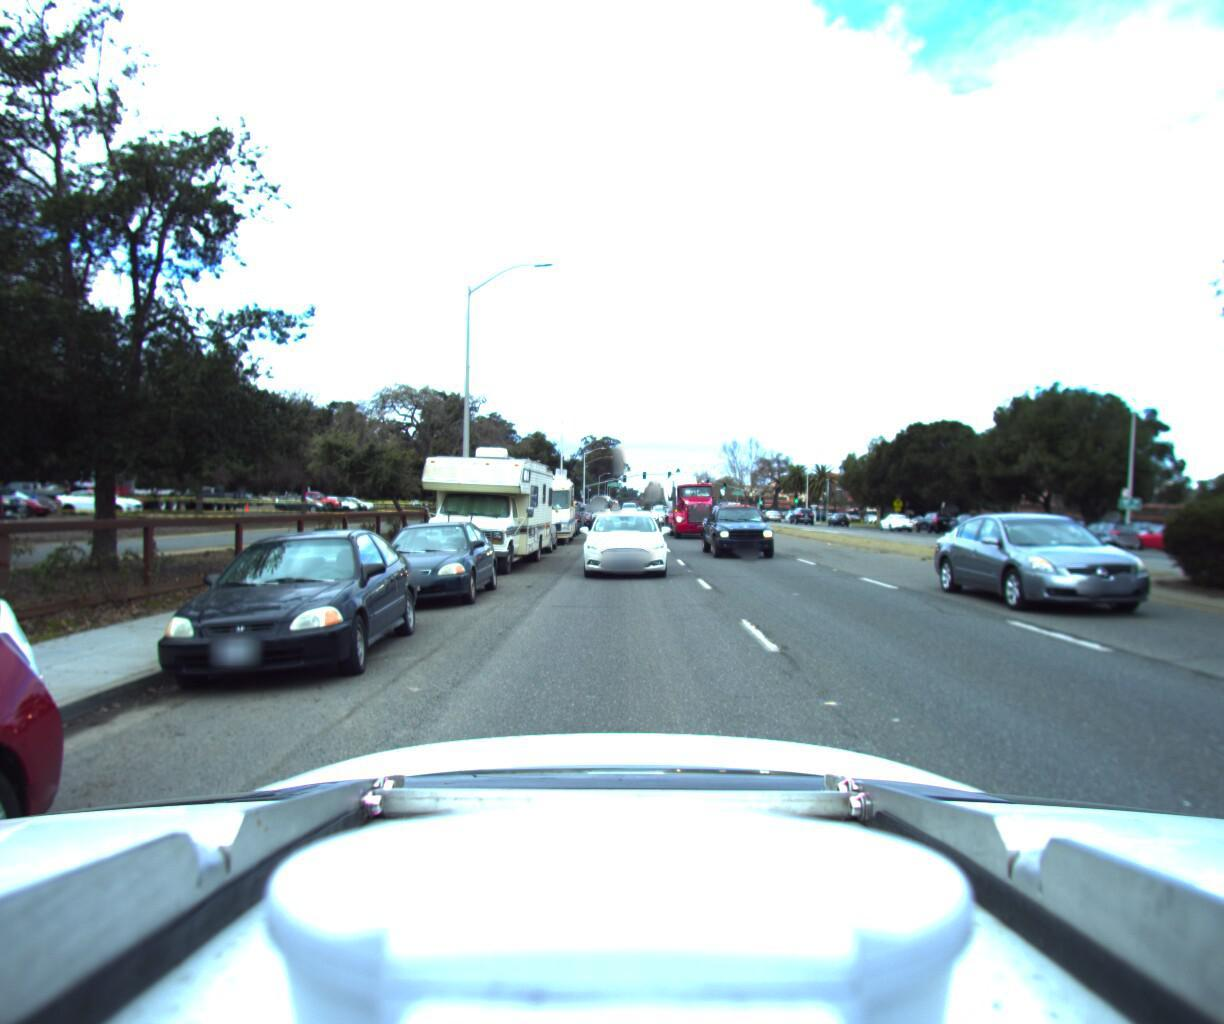car: (119, 517, 415, 710), (954, 505, 1224, 633), (348, 511, 497, 615), (576, 500, 671, 578), (696, 494, 779, 560), (1062, 507, 1145, 547), (1005, 502, 1076, 539), (494, 511, 557, 552), (547, 495, 586, 532), (942, 508, 994, 533), (560, 495, 592, 527), (913, 506, 955, 527), (872, 507, 911, 527), (645, 498, 668, 517)
other_vehicle: (402, 429, 556, 570), (504, 464, 577, 543)
truck: (657, 454, 723, 540)
